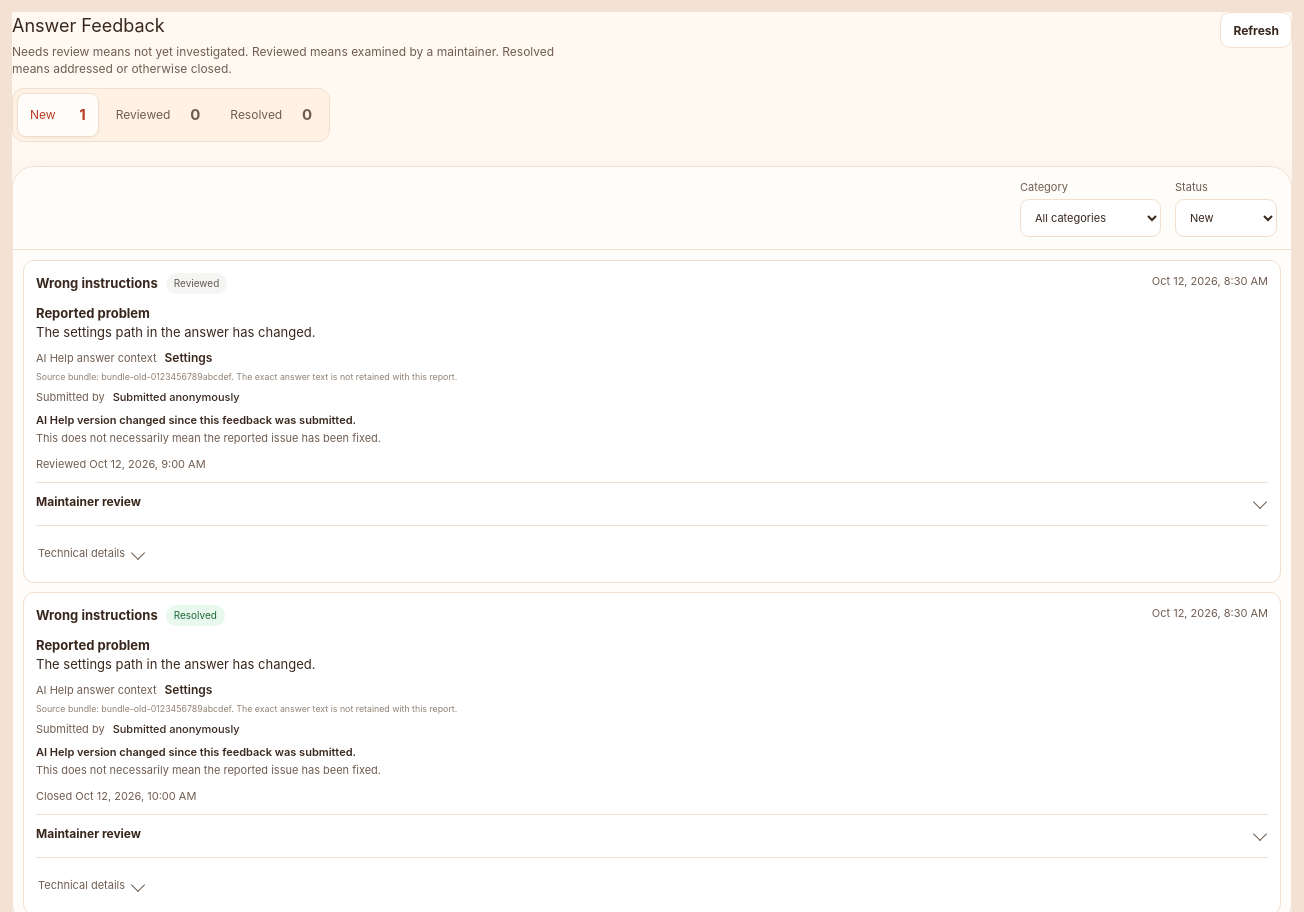
Test: AnswerFeedbackWorkspace › provides status-appropriate actions on reviewed and resolved feedback
Select "All statuses" in the dropdown labelled "Status" at (1226, 218), box [1175,199,1277,237]
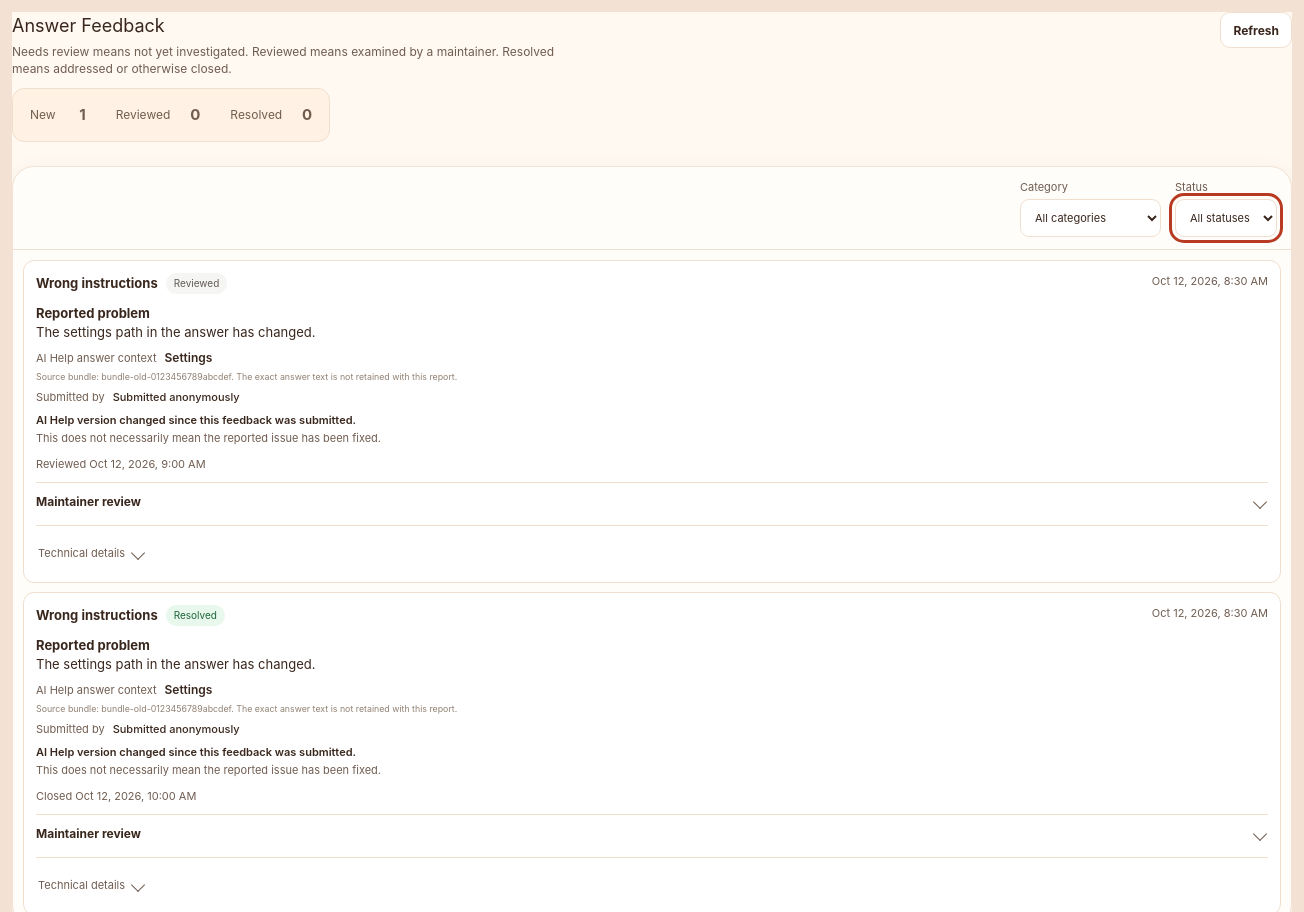
Click the heading "Maintainer review" below "Oct 12, 2026, 10:00 AM".
click(88, 834)  # box [36,826,141,841]
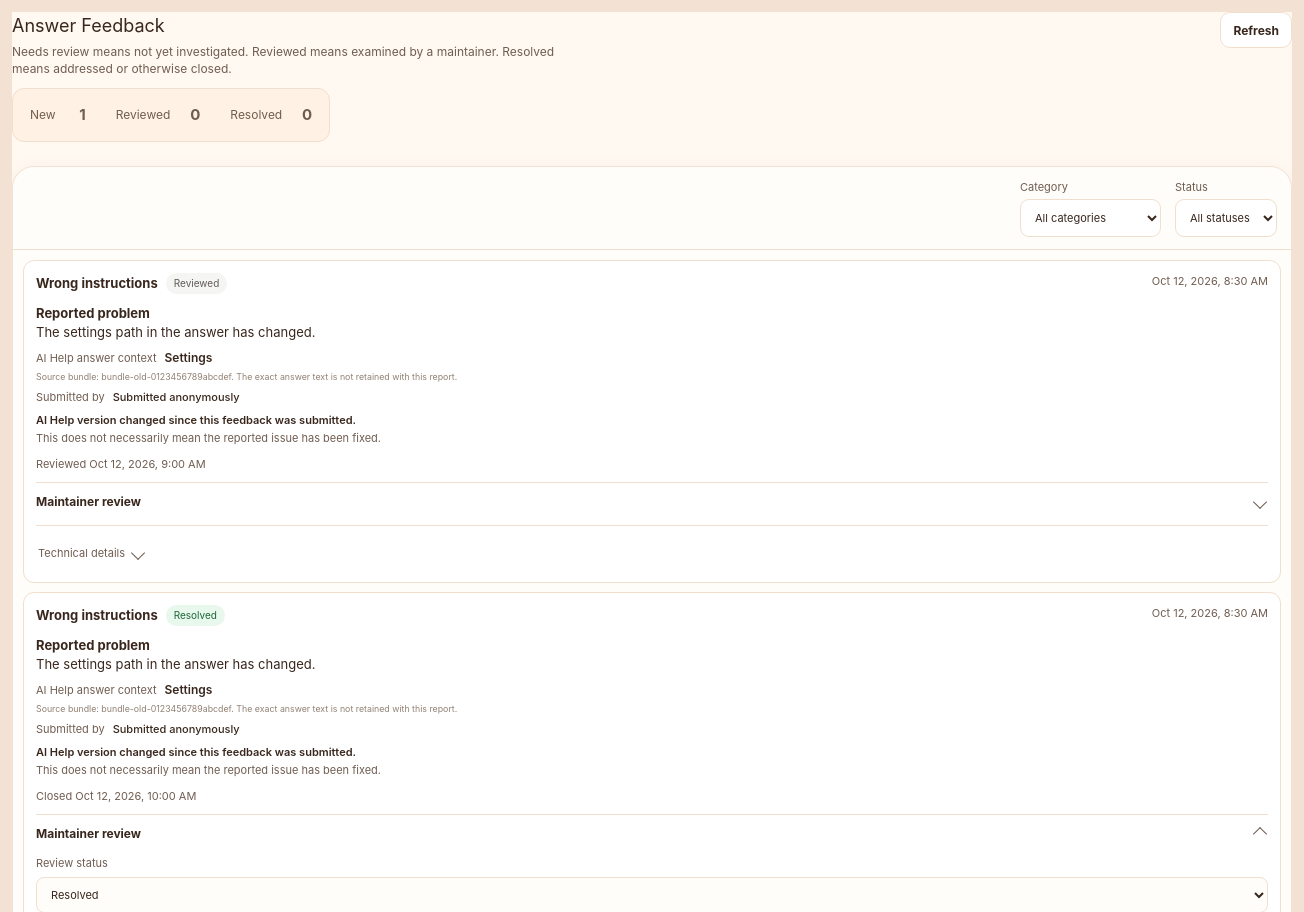
Result: the dropdown labelled "Review status" shows "Resolved" at [36,877,1268,911]
